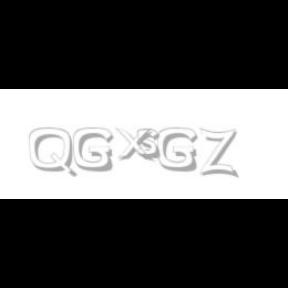G: (73, 128, 113, 172), (157, 128, 197, 172)
Q: (29, 128, 75, 178)
Z: (199, 128, 236, 178)
s: (137, 128, 165, 160)
x: (115, 128, 157, 162)
